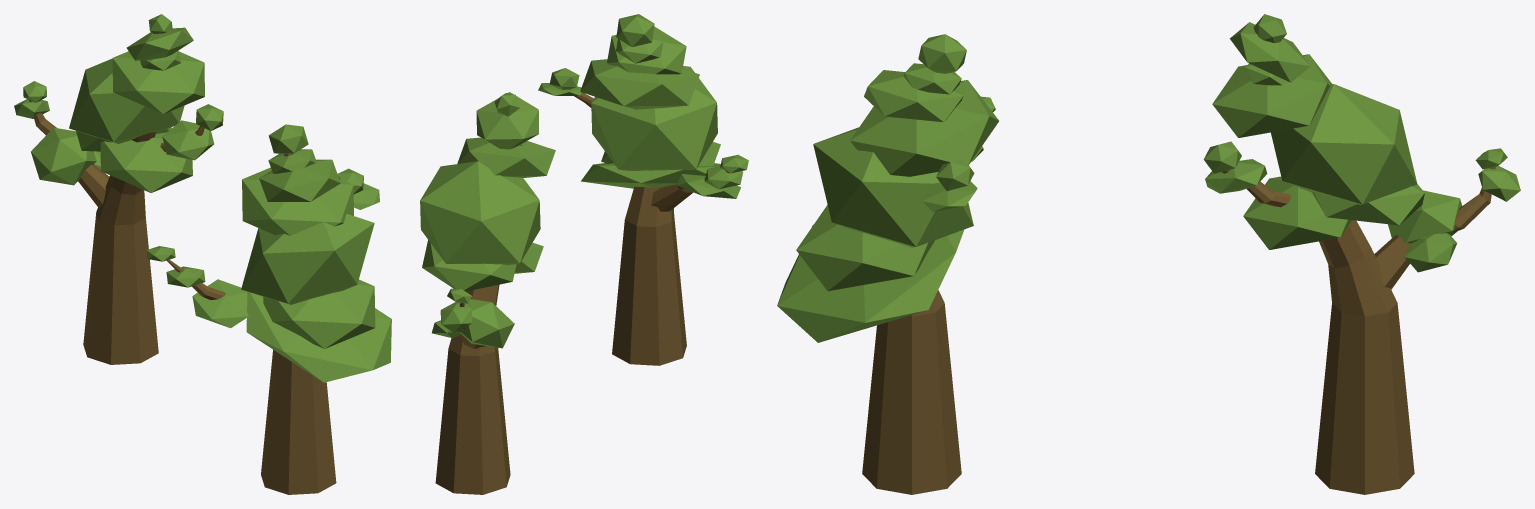
File: tree._expblend.fbx
3 renders of one model, left to right at view 1: azimuth 30°, elevation 25°; view 2: azimuth 150°, elevation 25°; view 3: azimuth 270°, elevation 25°, orthographic. The views are drawn at different scales.
Parts seen in each view (by area): view 1: Icosphere.019, Icosphere.004; view 2: Icosphere.019, Icosphere.004; view 3: Icosphere.004, Icosphere.019, Icosphere.010.
Boxes of the visible parts, left/top/right/bottom form: Icosphere.019: left=146, top=124, right=391, bottom=494; Icosphere.004: left=14, top=14, right=223, bottom=364; Icosphere.019: left=538, top=14, right=748, bottom=365; Icosphere.004: left=420, top=92, right=555, bottom=494; Icosphere.004: left=1203, top=14, right=1520, bottom=494; Icosphere.019: left=777, top=34, right=998, bottom=494; Icosphere.010: left=1404, top=233, right=1457, bottom=272.
Size of the model in its own units: 296 by 463 by 682.
